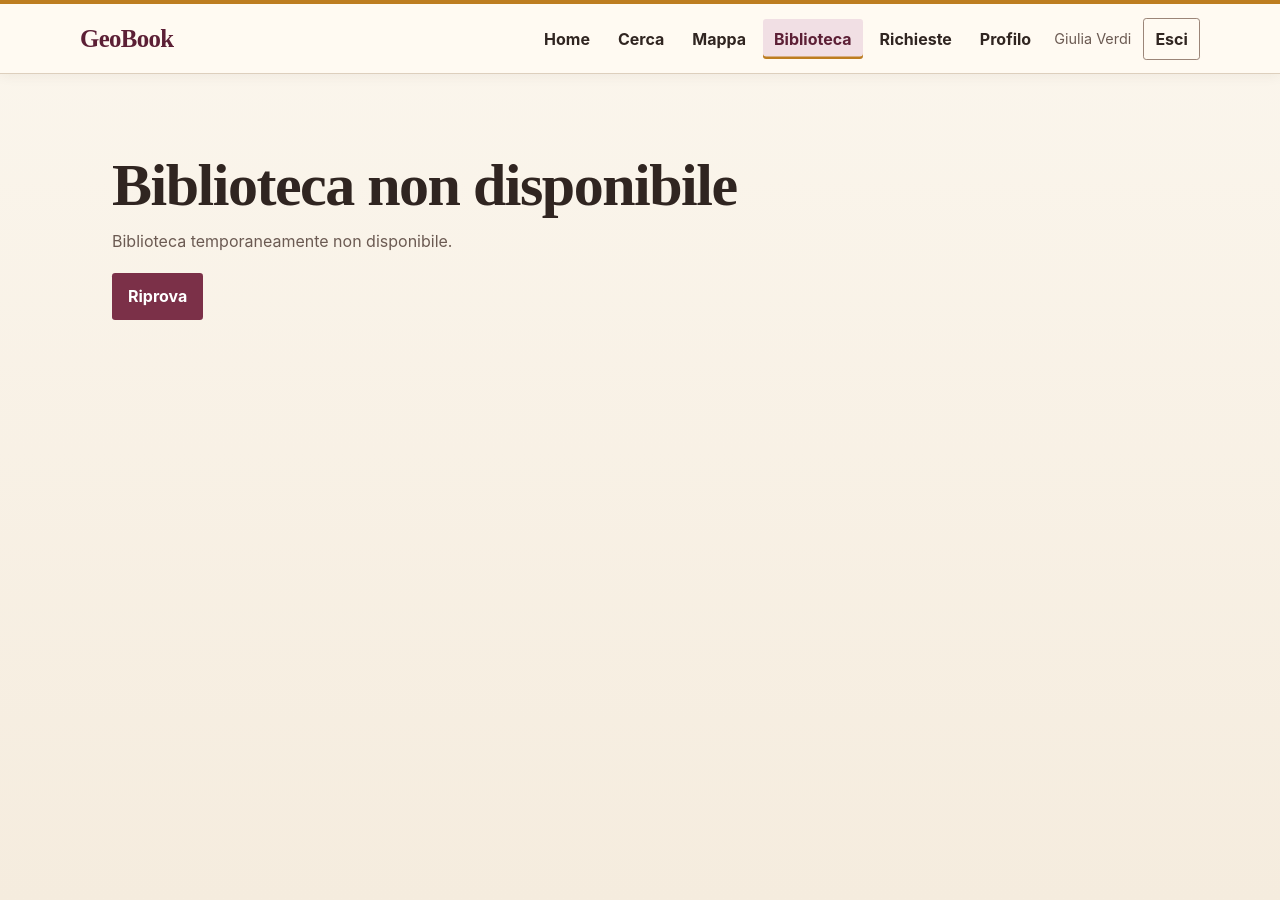
it: personal library › shows a recoverable error when the library cannot be loaded
expect the heading "Biblioteca non disponibile" is shown: met, box [112, 154, 784, 217]
expect the message reads "Biblioteca temporaneamente non disponibile.": met, box [112, 231, 452, 251]
Click the button "Riprova".
click(158, 296)  # box [112, 273, 203, 320]
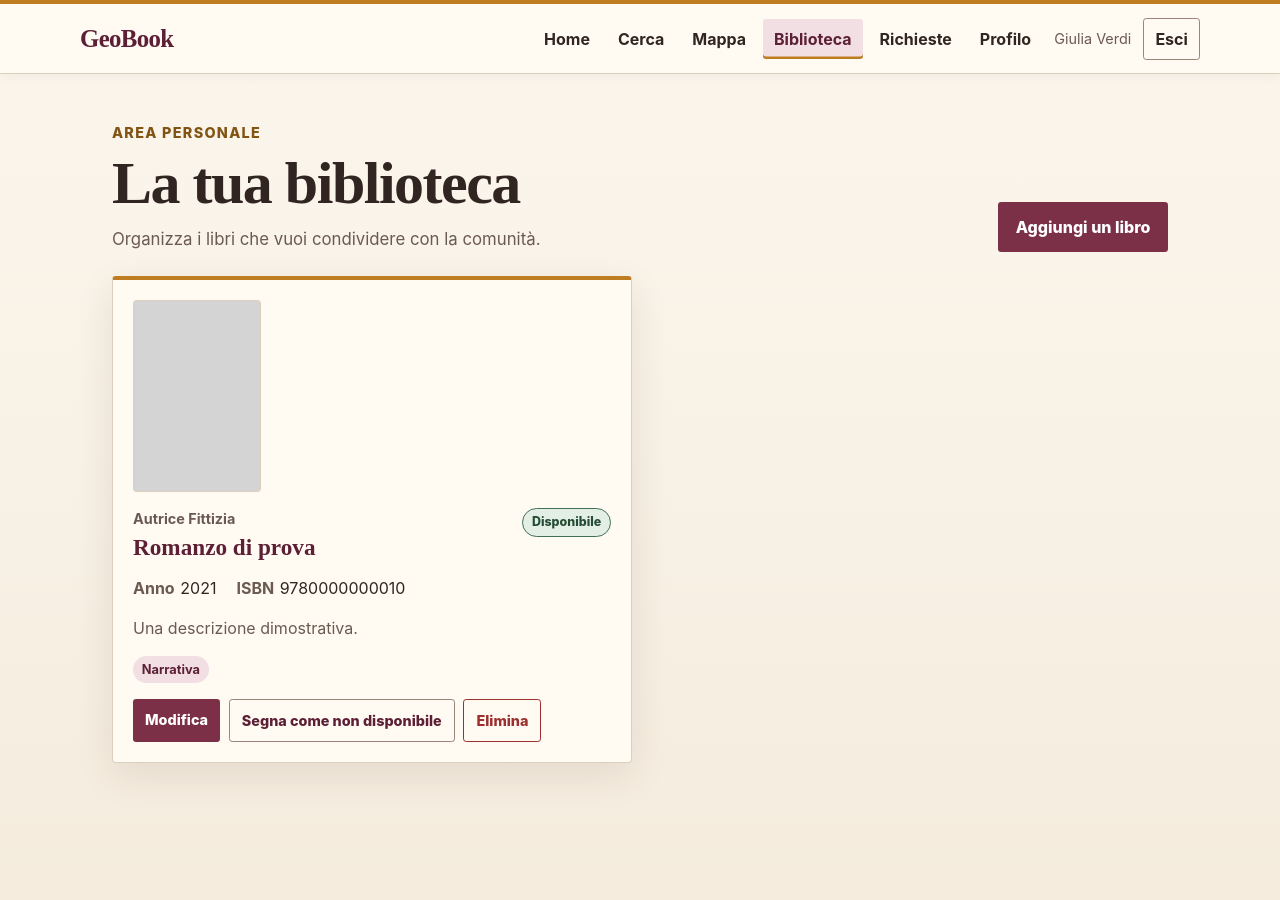
expect the heading "Romanzo di prova" is shown: met, box [133, 534, 316, 560]
